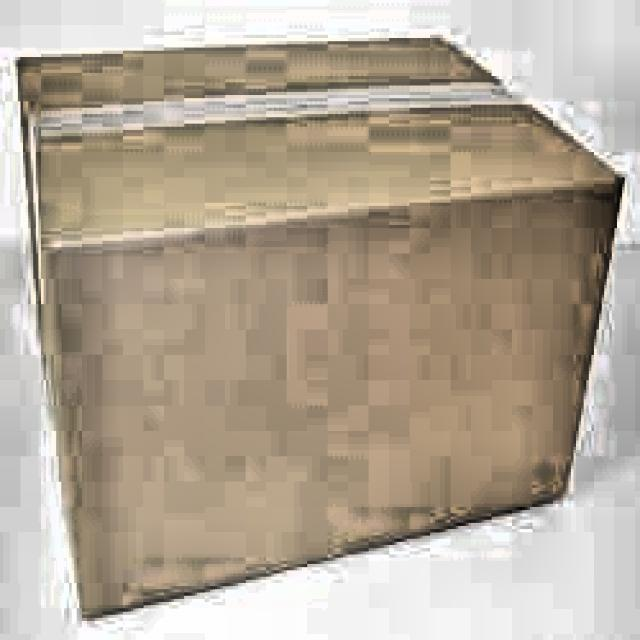cardboard: (12, 32, 624, 618)
